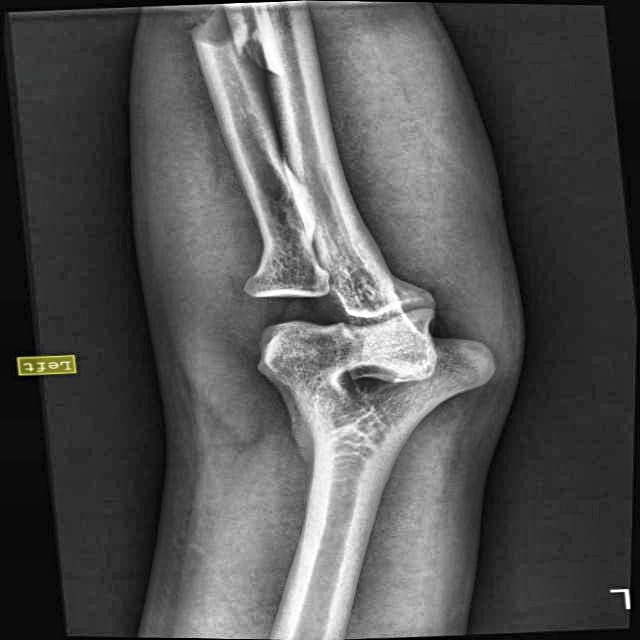Spiral: (186, 0, 307, 76)
